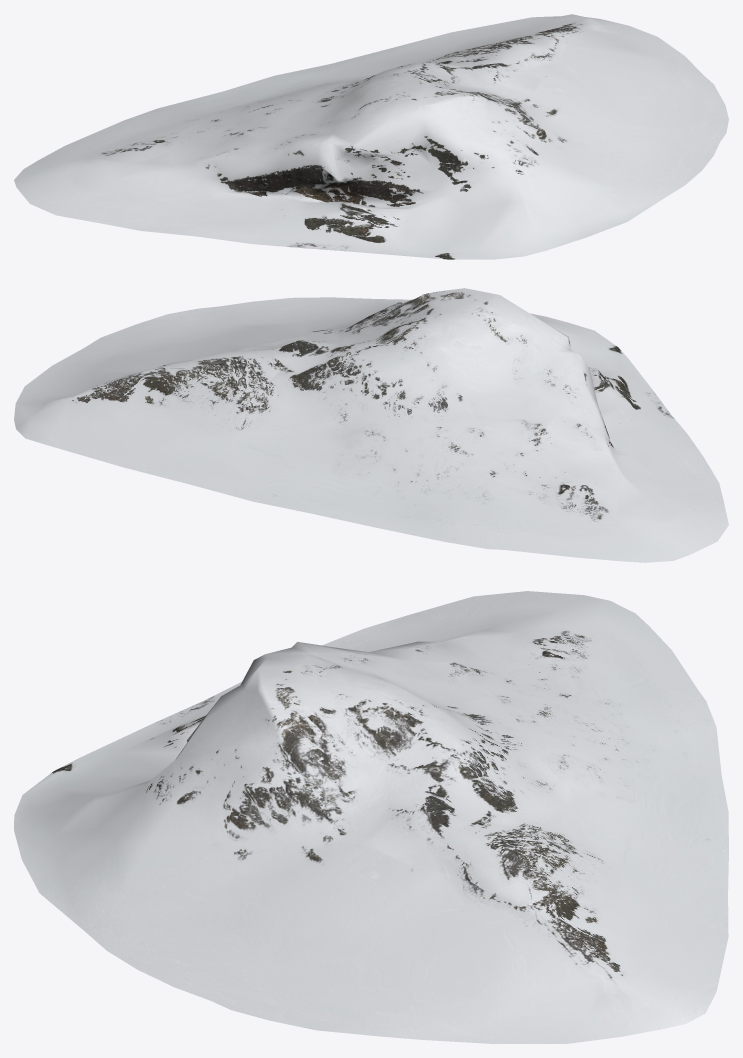
The model's file is Snow_Hill.obj.
3 renders of one model, top to bottom at view 1: azimuth 30°, elevation 25°; view 2: azimuth 150°, elevation 25°; view 3: azimuth 270°, elevation 25°, orthographic. The views are drawn at different scales.
Visible parts, largest first — view 1: vdbmabvva_LOD0_TIER3_000; view 2: vdbmabvva_LOD0_TIER3_000; view 3: vdbmabvva_LOD0_TIER3_000.
Part boxes in pixels (bbox=[...]): vdbmabvva_LOD0_TIER3_000: bbox=[14, 14, 728, 259]; vdbmabvva_LOD0_TIER3_000: bbox=[14, 288, 728, 562]; vdbmabvva_LOD0_TIER3_000: bbox=[14, 591, 728, 1043].
Size of the model in its own units: 20.54 by 2.9 by 13.69.
Materials: 1 (1 with a texture image).
